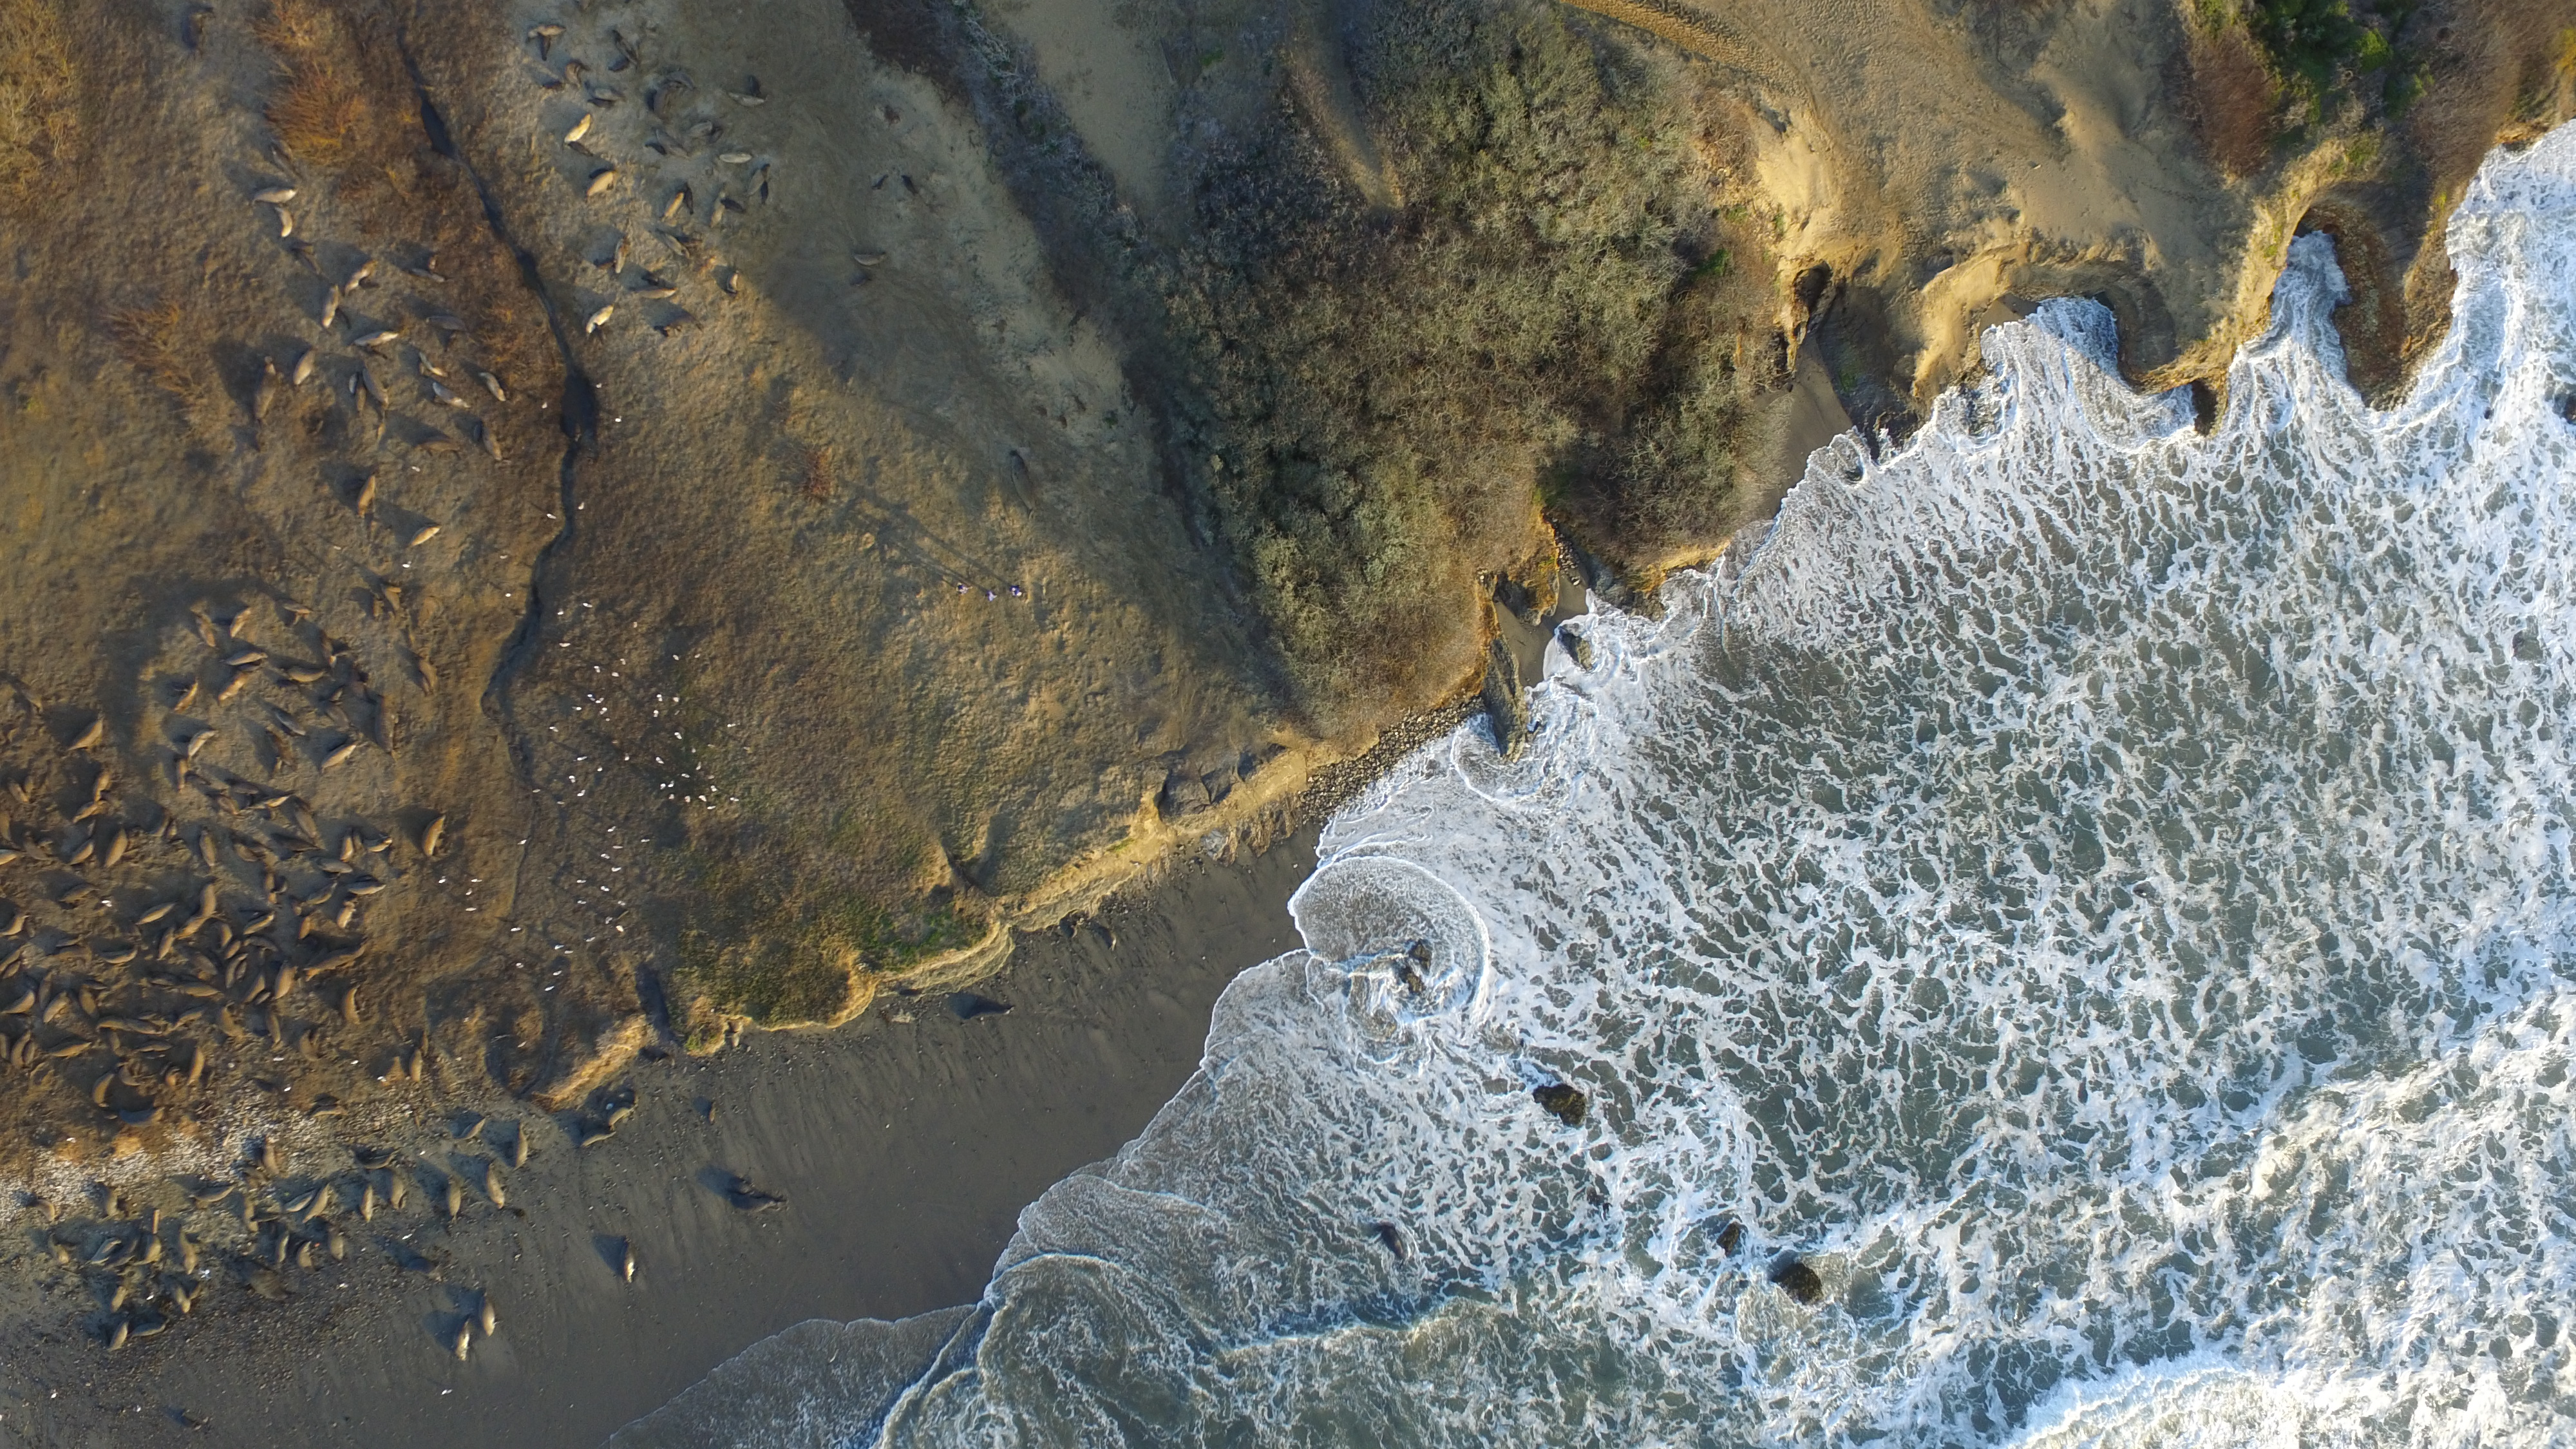adult male: (249, 363, 280, 423), (241, 1263, 287, 1302), (304, 945, 366, 971), (375, 695, 400, 757), (64, 718, 104, 752), (729, 1191, 778, 1215), (177, 945, 218, 973), (104, 826, 131, 869), (1016, 451, 1033, 511), (120, 1108, 168, 1129), (292, 803, 318, 837), (1380, 1226, 1407, 1258), (425, 817, 446, 856), (964, 1005, 1012, 1019), (198, 883, 216, 916)
male juvenile / female juvenile / adult female: (175, 1224, 198, 1277), (430, 382, 476, 409), (610, 30, 644, 65), (345, 667, 377, 704), (104, 1237, 140, 1269), (653, 131, 695, 157), (189, 1184, 234, 1208), (359, 372, 391, 405), (218, 671, 253, 701), (474, 372, 510, 402), (343, 264, 373, 299), (580, 172, 616, 202), (656, 232, 694, 260), (249, 184, 297, 205), (561, 111, 593, 143), (301, 1187, 329, 1223), (318, 745, 356, 771), (483, 1166, 506, 1208), (90, 1070, 113, 1113), (48, 1039, 90, 1062), (41, 991, 71, 1023), (584, 304, 614, 336), (704, 188, 727, 228), (510, 1127, 531, 1169), (317, 702, 349, 731), (356, 476, 377, 518), (134, 901, 173, 924), (407, 524, 441, 550), (303, 881, 338, 906), (481, 425, 506, 460), (349, 329, 398, 347), (453, 1320, 474, 1361), (665, 315, 706, 336), (320, 285, 340, 329), (2, 775, 32, 803), (216, 1005, 242, 1037), (412, 435, 460, 453), (658, 191, 685, 223), (271, 205, 295, 239), (188, 1044, 207, 1086), (663, 69, 702, 90), (294, 350, 317, 386), (633, 285, 679, 303), (188, 729, 216, 757), (479, 1295, 499, 1336), (525, 25, 566, 44), (138, 1237, 163, 1269), (172, 681, 196, 713), (747, 165, 771, 196), (389, 1177, 409, 1215), (21, 833, 50, 860), (272, 713, 308, 734), (87, 1240, 119, 1263), (73, 800, 104, 823), (191, 616, 214, 648), (283, 667, 329, 683), (101, 947, 138, 966), (60, 883, 97, 902), (612, 237, 632, 274), (170, 1279, 191, 1313), (225, 954, 246, 987), (419, 352, 446, 379), (239, 973, 264, 1001), (4, 991, 34, 1014), (180, 915, 211, 938), (131, 1320, 166, 1339), (340, 989, 359, 1024), (12, 1031, 30, 1070), (446, 1177, 462, 1219), (78, 989, 99, 1021), (361, 1154, 398, 1171), (0, 913, 27, 938), (69, 839, 96, 863), (729, 92, 766, 110), (619, 1242, 635, 1283), (274, 961, 290, 1001), (304, 950, 326, 980), (580, 1129, 616, 1146), (37, 975, 55, 1010), (253, 793, 288, 810), (200, 830, 216, 869), (587, 85, 626, 101), (425, 315, 464, 331), (460, 1118, 488, 1139), (244, 913, 272, 934), (564, 60, 586, 88), (382, 580, 400, 614), (30, 1200, 60, 1219), (260, 1141, 278, 1173), (156, 927, 173, 959), (336, 901, 352, 936), (313, 860, 352, 874), (285, 1191, 315, 1208), (264, 1012, 281, 1042), (92, 771, 110, 801), (327, 1226, 341, 1263), (225, 651, 267, 663), (347, 881, 387, 893), (110, 1322, 127, 1350), (0, 846, 25, 865), (409, 1261, 439, 1277), (299, 1031, 315, 1062), (407, 1051, 421, 1085), (361, 1184, 373, 1221), (103, 1189, 119, 1217), (228, 844, 257, 860), (685, 122, 713, 138), (51, 947, 92, 957), (177, 984, 218, 994), (276, 1235, 290, 1265), (50, 1237, 65, 1263), (607, 1108, 633, 1123), (0, 952, 21, 971), (278, 840, 317, 851), (152, 812, 170, 835), (216, 924, 230, 952), (264, 874, 278, 902), (175, 761, 189, 789), (295, 1244, 308, 1274), (99, 1017, 129, 1030), (127, 1021, 161, 1031), (340, 833, 352, 862), (134, 1040, 173, 1049), (163, 1069, 180, 1088), (244, 1200, 255, 1231), (363, 839, 395, 849), (110, 1286, 124, 1309), (0, 812, 11, 842), (147, 975, 179, 984), (0, 1035, 9, 1062), (313, 1108, 345, 1115)
pup: (267, 152, 299, 179), (559, 412, 582, 442), (851, 251, 888, 267), (230, 610, 249, 639), (410, 267, 449, 281), (175, 1007, 205, 1024), (276, 600, 313, 614), (725, 269, 743, 295), (209, 798, 237, 814), (359, 345, 391, 359), (23, 690, 42, 713), (414, 662, 437, 681), (295, 251, 320, 269), (492, 379, 513, 398), (106, 1030, 122, 1054), (269, 140, 294, 156), (718, 152, 750, 165), (57, 932, 87, 945), (356, 386, 368, 414), (223, 939, 239, 961), (117, 1070, 138, 1085), (1102, 929, 1115, 952), (326, 738, 347, 750), (902, 175, 916, 193), (336, 310, 350, 327), (2, 964, 19, 978), (246, 1168, 265, 1180), (85, 819, 97, 839), (708, 131, 724, 145), (25, 1044, 35, 1065), (299, 918, 310, 939), (96, 993, 113, 1005), (656, 1056, 676, 1067), (570, 143, 589, 154), (352, 830, 363, 849), (349, 373, 357, 396), (81, 980, 104, 989), (872, 177, 886, 191), (310, 421, 324, 435), (246, 941, 274, 948), (103, 793, 117, 807), (274, 879, 287, 895), (648, 145, 665, 156), (610, 60, 628, 71), (421, 678, 432, 695), (230, 784, 257, 791), (686, 188, 694, 212), (333, 686, 345, 701), (255, 993, 269, 1005), (596, 326, 605, 345), (372, 596, 380, 616), (313, 1028, 322, 1047), (343, 892, 363, 901), (280, 725, 295, 736), (722, 202, 740, 211), (545, 81, 563, 90), (170, 683, 188, 692), (25, 918, 34, 936), (237, 962, 246, 980), (318, 1100, 340, 1108), (628, 1090, 639, 1104), (598, 260, 612, 271), (134, 1012, 156, 1019), (750, 78, 759, 94), (35, 839, 51, 847), (189, 1286, 200, 1299), (855, 276, 869, 285), (644, 276, 658, 285), (656, 329, 671, 338), (290, 614, 299, 628), (101, 1113, 119, 1120), (161, 1062, 170, 1076), (292, 901, 301, 915), (186, 778, 209, 784), (239, 913, 262, 918), (255, 1215, 276, 1221), (587, 101, 609, 106), (419, 363, 426, 379), (119, 1265, 131, 1274), (64, 1242, 76, 1251), (708, 1104, 713, 1123), (359, 283, 379, 288), (166, 821, 172, 840), (336, 648, 350, 655), (274, 757, 281, 771), (218, 619, 232, 626), (133, 1062, 140, 1076), (589, 170, 607, 175), (278, 681, 295, 686), (260, 948, 265, 966), (244, 794, 251, 807), (173, 736, 189, 741), (389, 847, 395, 863), (239, 665, 262, 669), (763, 182, 766, 203), (648, 96, 653, 110), (545, 37, 548, 58), (294, 244, 315, 248), (433, 400, 446, 405), (269, 807, 274, 819), (357, 876, 370, 881), (449, 333, 467, 336), (248, 846, 265, 849), (27, 777, 30, 793), (327, 874, 340, 878), (425, 1033, 426, 1054), (681, 241, 699, 242), (665, 83, 681, 85), (476, 425, 478, 435)
